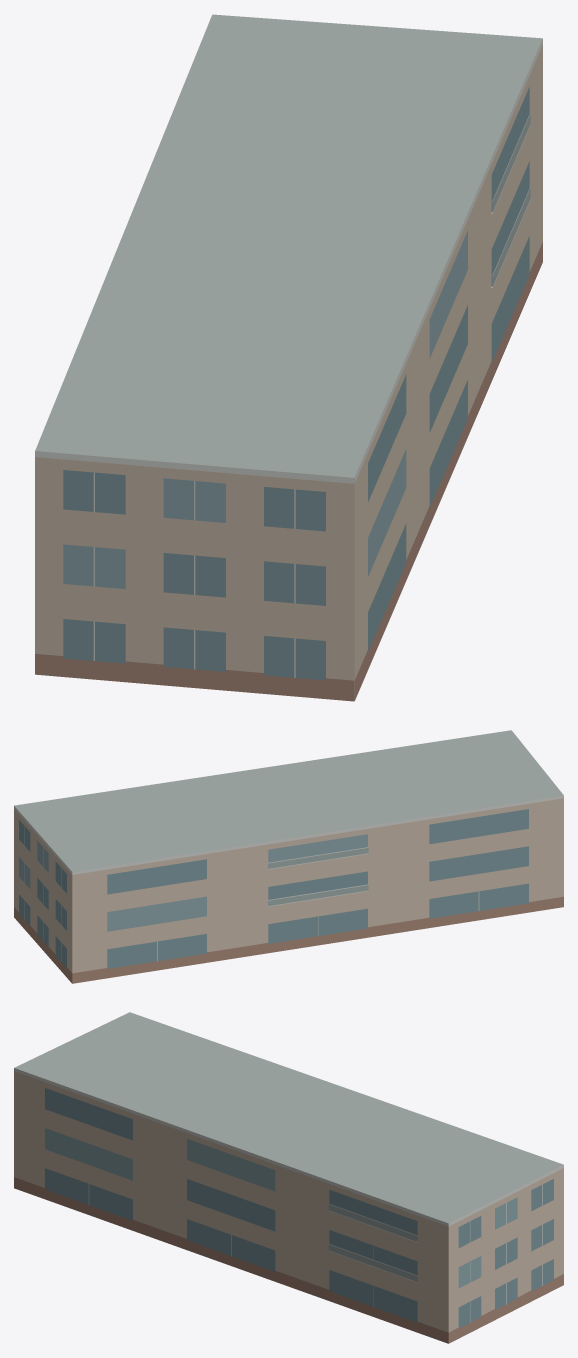
Rendered from survey-upis-32761568.glb.
The picture shows the model from 3 angles, top to bottom: view 1: azimuth 30°, elevation 25°; view 2: azimuth 150°, elevation 25°; view 3: azimuth 270°, elevation 25°; orthographic projection. The views are drawn at different scales.
Visible parts, largest first — view 1: survey-upis-32761568.tmp; view 2: survey-upis-32761568.tmp; view 3: survey-upis-32761568.tmp.
Part boxes in pixels (<box>): survey-upis-32761568.tmp: <box>35,14,542,701</box>; survey-upis-32761568.tmp: <box>14,730,563,983</box>; survey-upis-32761568.tmp: <box>14,1012,563,1343</box>.
Bounding box in the file's own units: 34.44 × 9.15 × 37.88.
